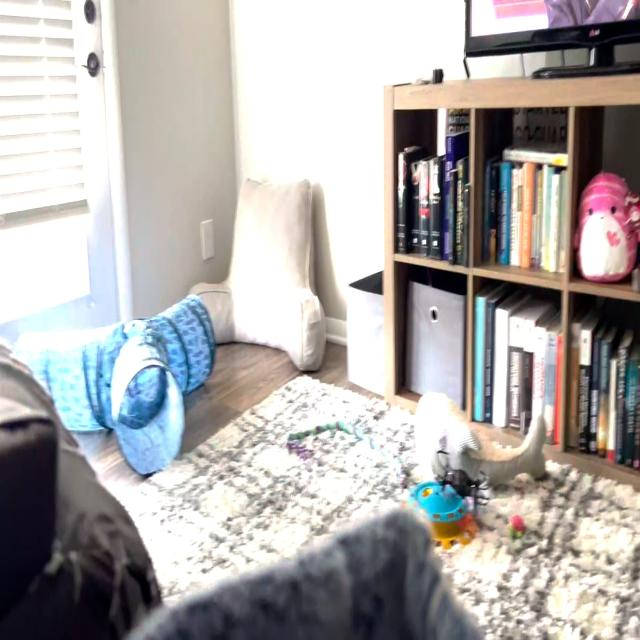drone: (428, 432, 495, 521)
